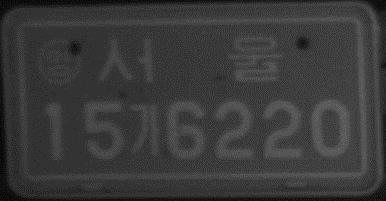0: (309, 96, 353, 158)
1: (41, 99, 70, 165)
2: (262, 97, 305, 163), (214, 98, 257, 162)
5: (80, 98, 127, 161)
6: (164, 99, 208, 160)
가: (126, 101, 162, 158)
서울_D: (96, 32, 284, 88)
영: (37, 36, 83, 88)
